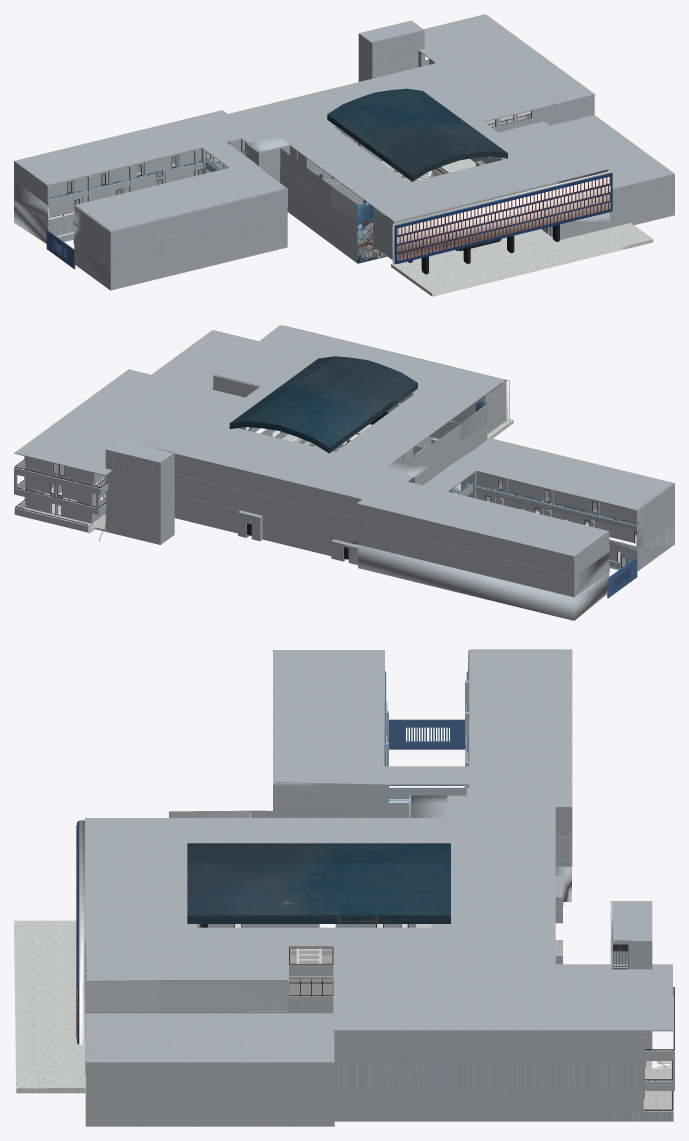
Rendered from FACU-EXTOP.glb.
The picture shows the model from 3 angles, top to bottom: view 1: azimuth 30°, elevation 25°; view 2: azimuth 150°, elevation 25°; view 3: azimuth 270°, elevation 25°; orthographic projection. The views are drawn at different scales.
Visible parts, largest first — view 1: Paredes_P2.001, Paredes_PB.004, Piso_Entrada.001, Fachada_Principal.001, LaCiencia.001, Main Ventanas Baja.002, Pilares_Entrada.001, PuertaEscaleras_L.002, Ventanas_Puertas_P2.001; view 2: Paredes_P2.001, Paredes_PB.004, Ventanas_Puertas_P2.001, Main Ventanas Baja.002, PuertaEscaleras_L.002; view 3: Paredes_P2.001, Paredes_PB.004, Piso_Entrada.001, PuertaEscaleras_L.002, Pozo.001, Main Ventanas Baja.002, Piso_PB.002.
Part boxes in pixels (bbox=[...]): Paredes_P2.001: bbox=[14, 14, 674, 290]; Paredes_PB.004: bbox=[327, 88, 507, 181]; Piso_Entrada.001: bbox=[43, 158, 653, 296]; Fachada_Principal.001: bbox=[395, 173, 612, 264]; LaCiencia.001: bbox=[357, 202, 392, 263]; Main Ventanas Baja.002: bbox=[49, 62, 549, 233]; Pilares_Entrada.001: bbox=[408, 224, 559, 274]; PuertaEscaleras_L.002: bbox=[46, 230, 75, 269]; Ventanas_Puertas_P2.001: bbox=[49, 59, 531, 205]; Paredes_P2.001: bbox=[14, 325, 674, 620]; Paredes_PB.004: bbox=[229, 356, 417, 453]; Ventanas_Puertas_P2.001: bbox=[14, 403, 635, 543]; Main Ventanas Baja.002: bbox=[36, 403, 635, 566]; PuertaEscaleras_L.002: bbox=[607, 557, 637, 598]; Paredes_P2.001: bbox=[76, 649, 674, 1126]; Paredes_PB.004: bbox=[187, 843, 450, 923]; Piso_Entrada.001: bbox=[14, 757, 628, 1093]; PuertaEscaleras_L.002: bbox=[389, 719, 465, 749]; Pozo.001: bbox=[289, 948, 333, 995]; Main Ventanas Baja.002: bbox=[235, 924, 407, 995]; Piso_PB.002: bbox=[643, 1061, 671, 1110].
Bounding box in the file's own units: 0.9557 × 0.1658 × 0.7006.
Materials: 19 (19 with a texture image).
